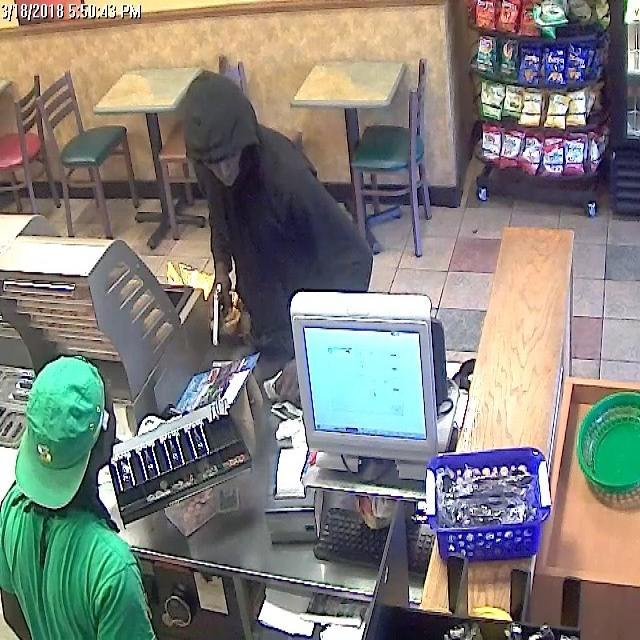weapon: (201, 280, 244, 347)
